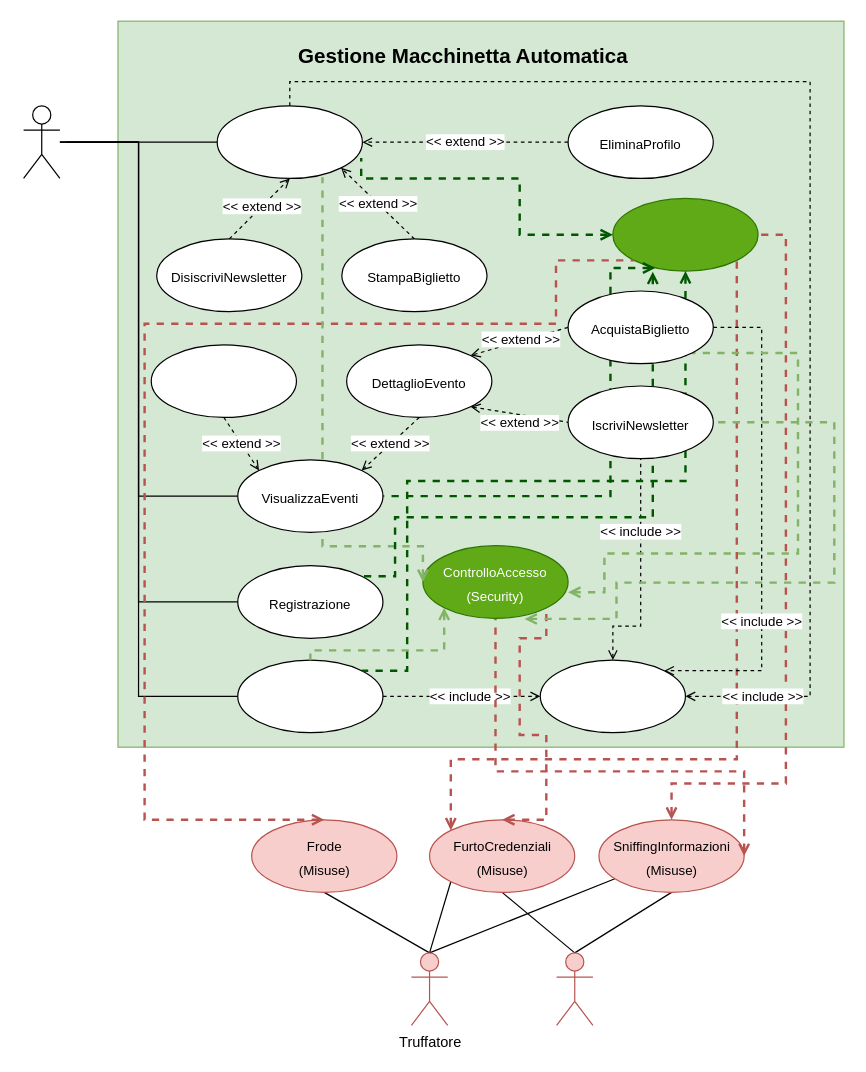
The diagram is 866 pixels wide and 1072 high, and some of its shapes have lost their labels. The shapes that lost their labels are listed below. From the top down, each one's box as (x1, y1, x2, y2) in pixels, then its label:
(22, 105, 60, 178): Utente
(216, 105, 362, 178): GestioneProfilo
(612, 197, 758, 271): GarantireProtezione (Security)
(150, 344, 296, 417): FiltraEventi
(237, 659, 383, 733): LasciaFeedback
(539, 659, 685, 733): Autenticazione
(555, 952, 593, 1025): Hacker
